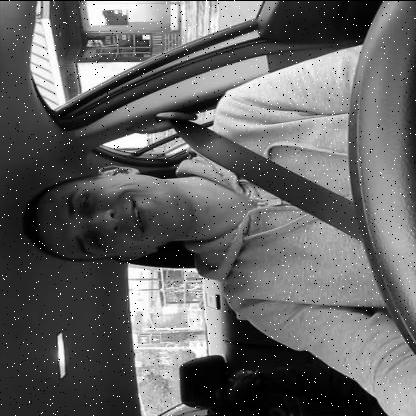seatbelt: (19, 106, 379, 284)
